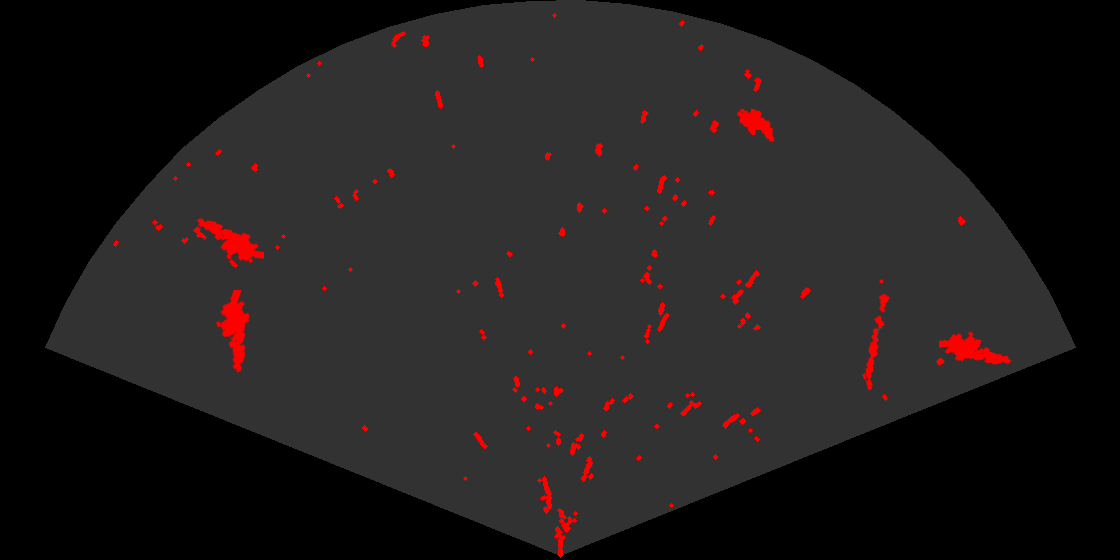AUV: (735, 107, 776, 143)
chain: (864, 291, 891, 392)
frogman: (214, 290, 252, 374), (195, 217, 264, 263), (939, 330, 1012, 366)
